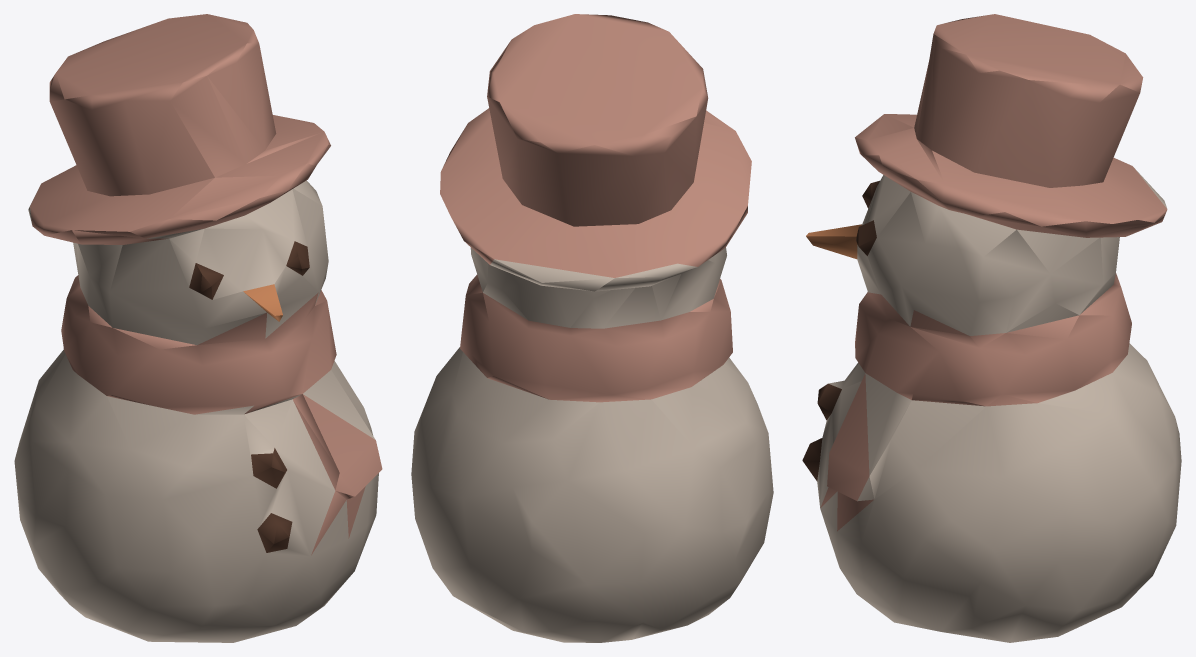
Rendered from snowman_01.low.glb.
The picture shows the model from 3 angles, left to right: view 1: azimuth 30°, elevation 25°; view 2: azimuth 150°, elevation 25°; view 3: azimuth 270°, elevation 25°; orthographic projection.
Size of the model in its own units: 1.11 by 1.88 by 1.15.
